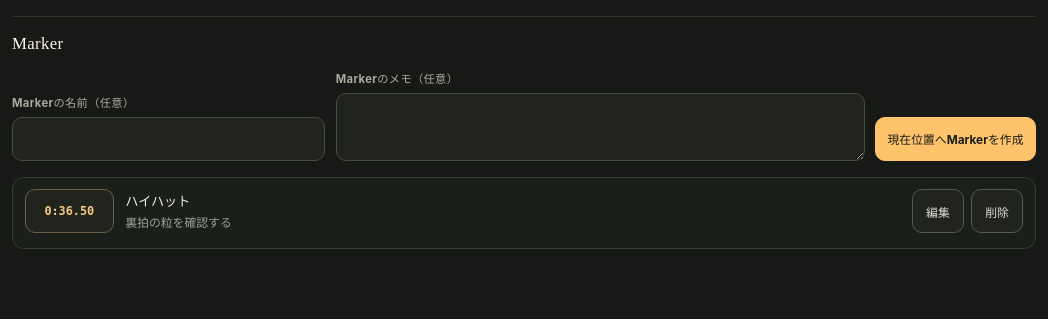
Test: MarkerPanel Story 0006 contract › keeps successful Markers and input while showing a fixed save error
Expected: the button named "0:36.50へ移動" is shown, [24, 189, 114, 233]
Type "残す入力" into the field labelled "Markerの名前（任意）" at (169, 139), box [12, 117, 325, 161]
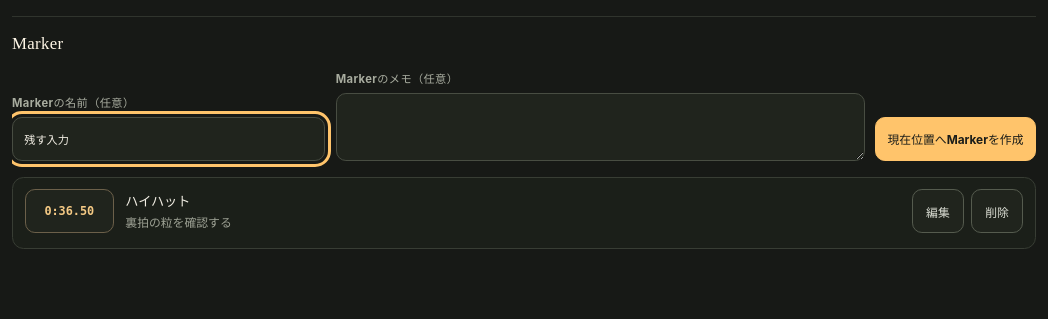
Click the button "現在位置へMarkerを作成" at (956, 139), box [875, 117, 1036, 161]
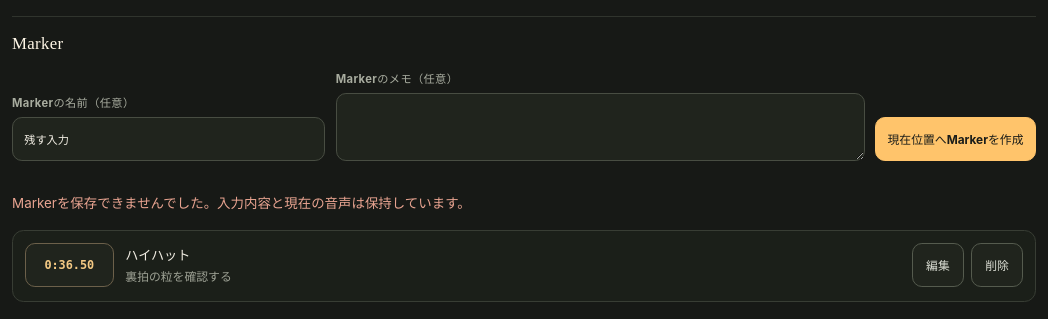
Expected: the button named "0:36.50へ移動" is shown, [24, 243, 114, 287]
Expected: the message named "Marker保存エラー" reads "Markerを保存できませんでした。入力内容と現在の音声は保持しています。", [12, 195, 471, 211]
